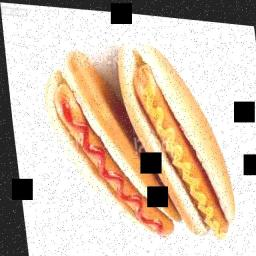hotdog: (33, 42, 179, 246), (114, 32, 238, 240)
